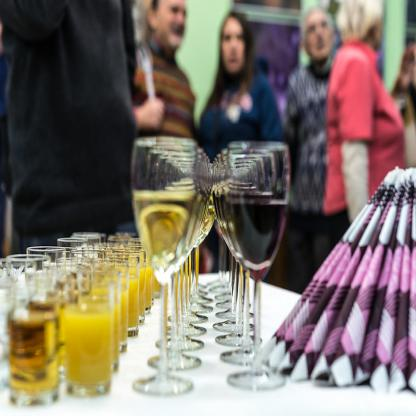drinking: (132, 137, 197, 396), (227, 141, 289, 390)
